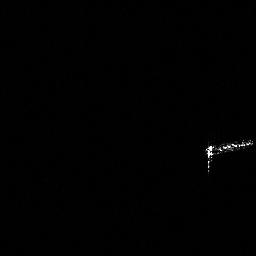ship: (202, 136, 256, 175)
